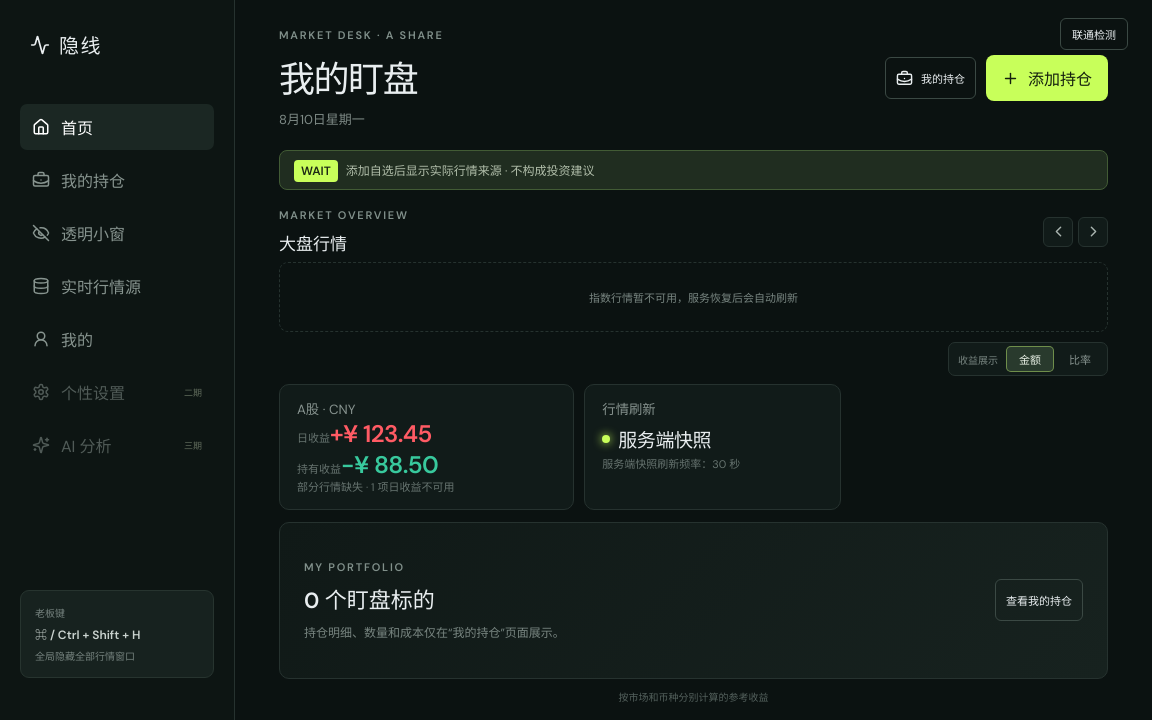
it: Dashboard › 金额与比率统一切换，并按市场展示日收益和持有收益
Expected: the text "+¥ 123.45" is shown, [330,418,432,449]
Expected: the text "-¥ 88.50" is shown, [341,449,438,480]
Click the button "比率": point(1080, 359) [1056,346,1104,372]
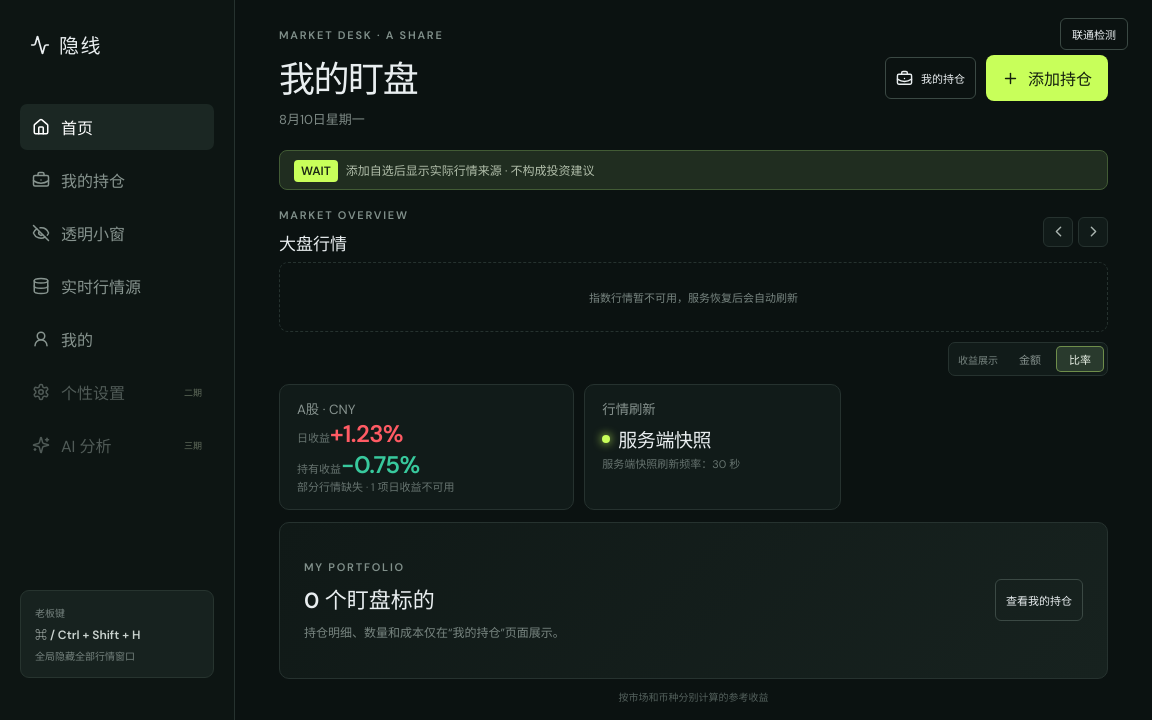
Expected: the text "部分行情缺失 · 1 项日收益不可用" is shown, [297,480,454,494]
Expected: the text "+1.23%" is shown, [330,418,403,449]
Expected: the text "-0.75%" is shown, [341,449,420,480]
